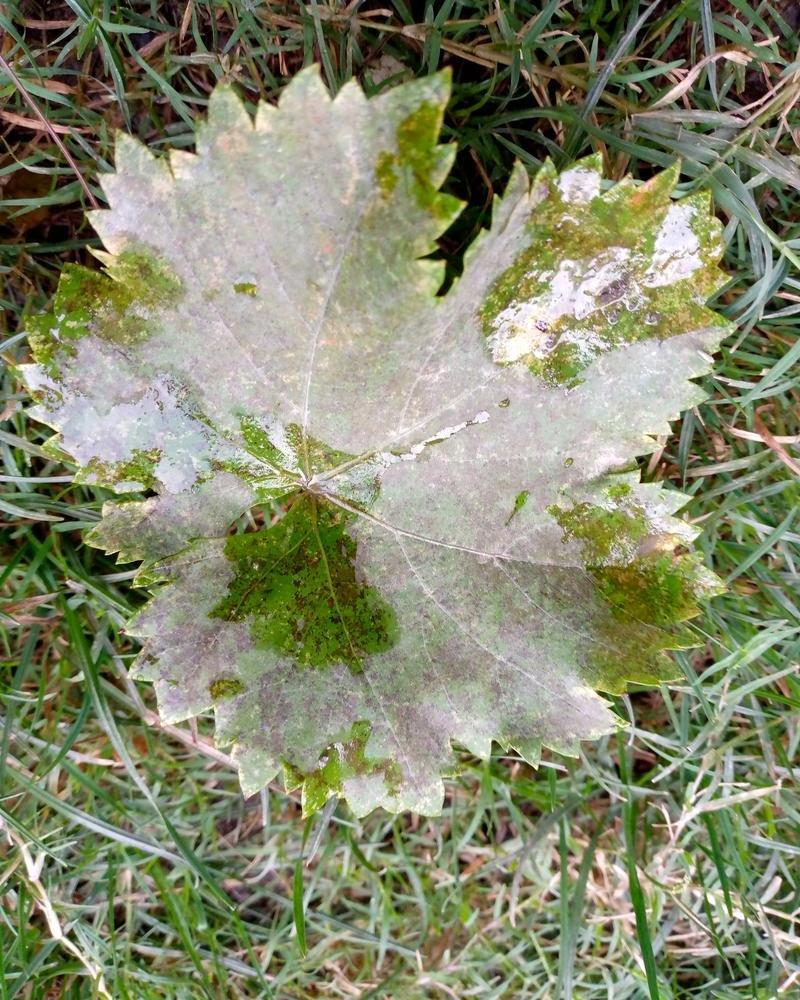Powdery-Mildew: (256, 202, 717, 740), (109, 456, 380, 791), (98, 90, 406, 372), (365, 471, 511, 706), (33, 290, 196, 465), (465, 204, 553, 303), (554, 164, 617, 227)
